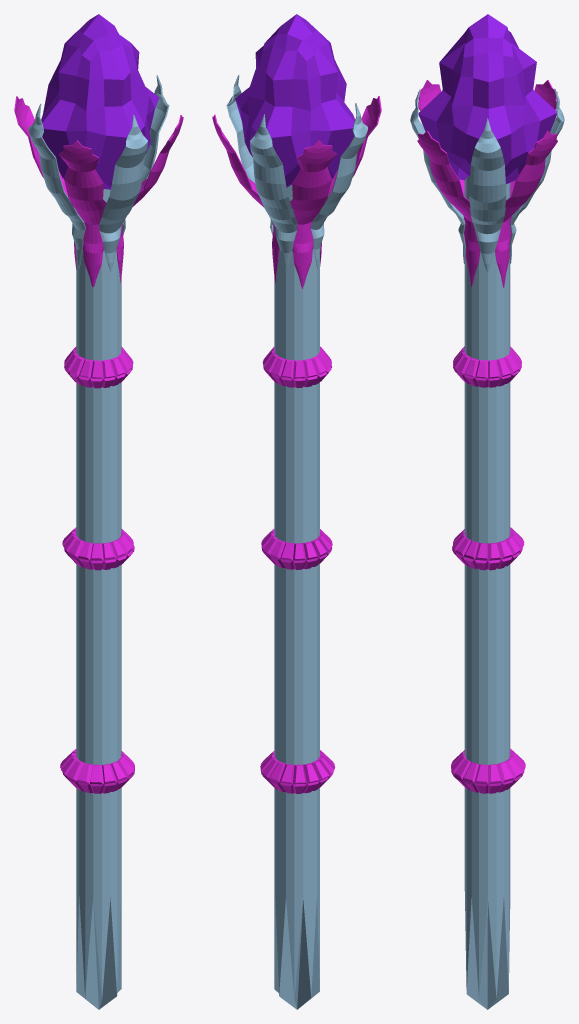
The model's file is mage_scepter.fbx.
3 renders of one model, left to right at view 1: azimuth 30°, elevation 25°; view 2: azimuth 150°, elevation 25°; view 3: azimuth 270°, elevation 25°, orthographic.
Visible parts, largest first — view 1: Sphere; view 2: Sphere; view 3: Sphere.
Part boxes in pixels (x1=…): Sphere: x1=14, y1=14, x2=183, y2=1009; Sphere: x1=212, y1=14, x2=381, y2=1009; Sphere: x1=410, y1=14, x2=564, y2=1009.
Size of the model in its own units: 592 by 4217 by 592.
